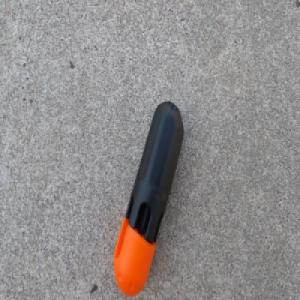PlasticPart: (112, 99, 183, 295)
